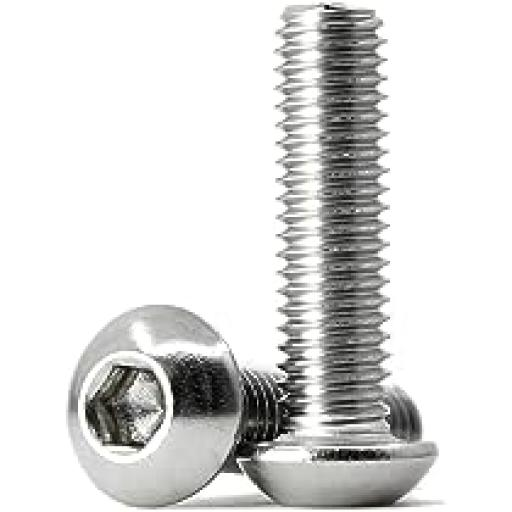Hex-Allen: (67, 304, 248, 506)
